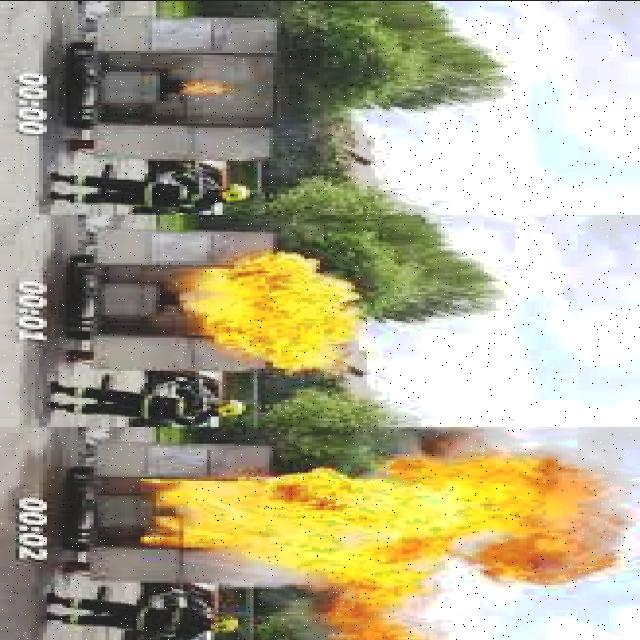api: (145, 448, 637, 610), (192, 246, 368, 373), (173, 70, 239, 122)
